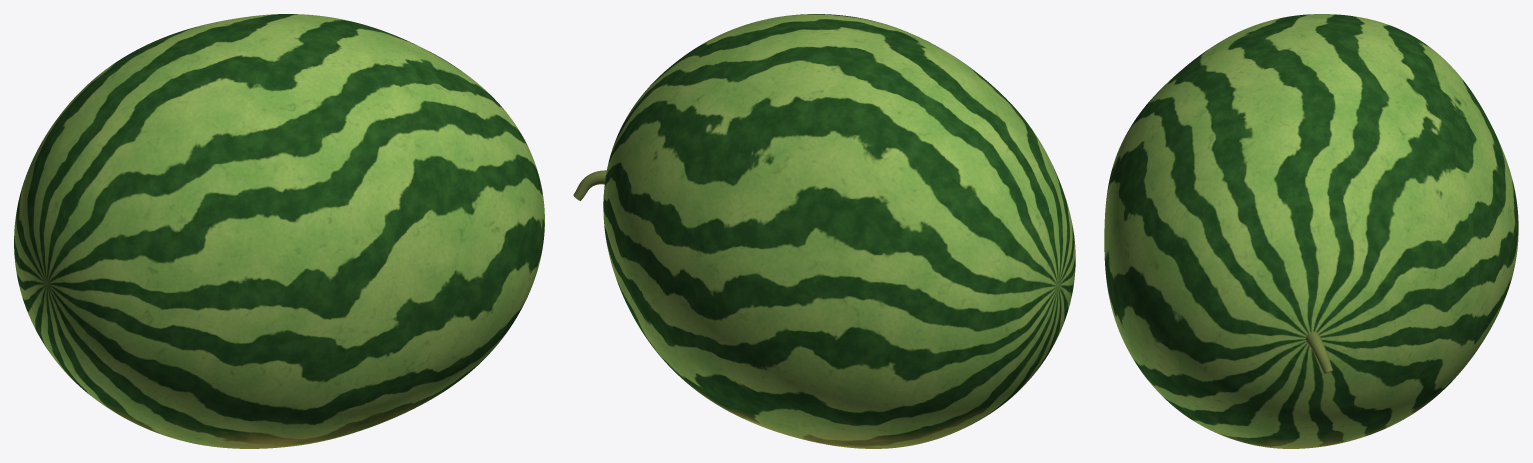
The model's file is watermelon_whole_baked.glb.
3 renders of one model, left to right at view 1: azimuth 30°, elevation 25°; view 2: azimuth 150°, elevation 25°; view 3: azimuth 270°, elevation 25°, orthographic. The views are drawn at different scales.
Visible parts, largest first — view 1: Watermelon_Whole; view 2: Watermelon_Whole; view 3: Watermelon_Whole, Watermelon_Whole_Stem.
Boxes of the visible parts, <box> form: Watermelon_Whole: <box>14,14,544,448</box>; Watermelon_Whole: <box>603,14,1075,448</box>; Watermelon_Whole: <box>1104,14,1518,448</box>; Watermelon_Whole_Stem: <box>1305,331,1332,373</box>.
Size of the model in its own units: 3.57 by 2.75 by 2.73.
Materials: 3 (2 with a texture image).
